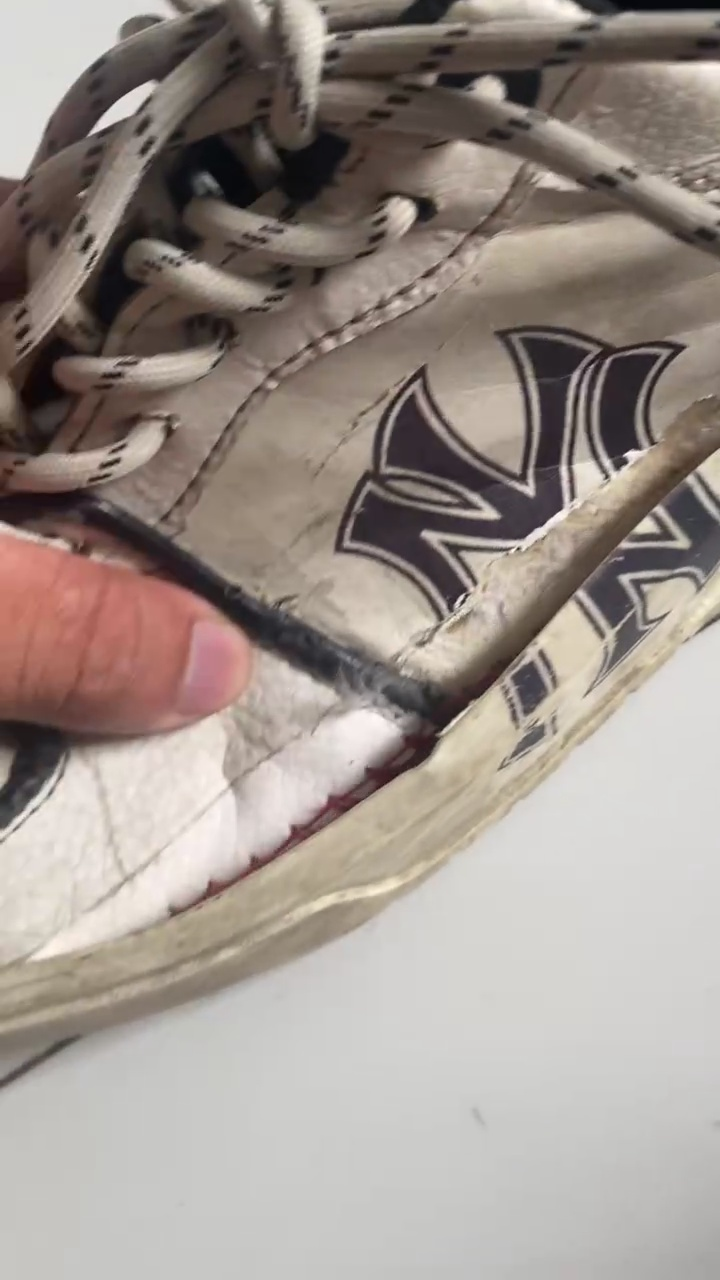bonding: (282, 696, 439, 864), (89, 829, 275, 961), (564, 424, 684, 607), (442, 555, 562, 736)
